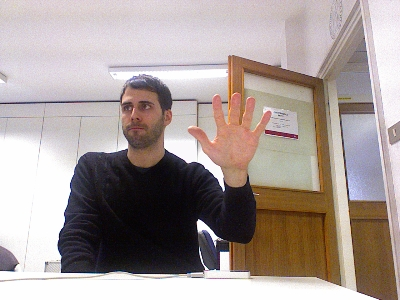布: (186, 91, 272, 170)
